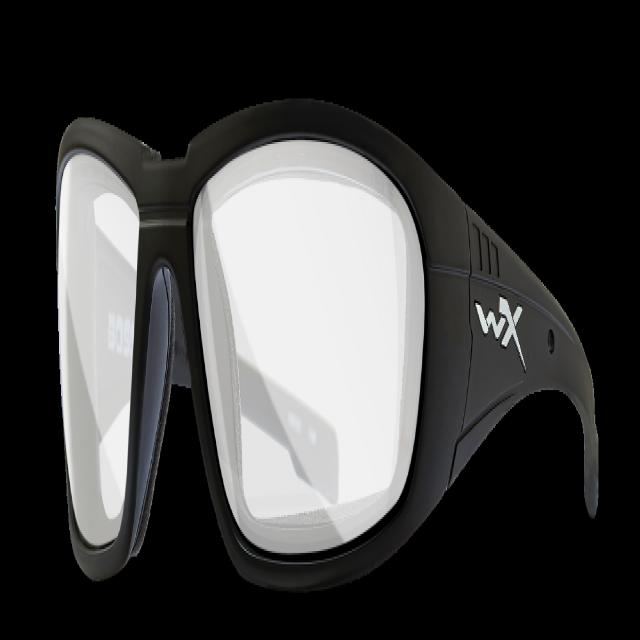Protective Glasses: (36, 75, 610, 640)
